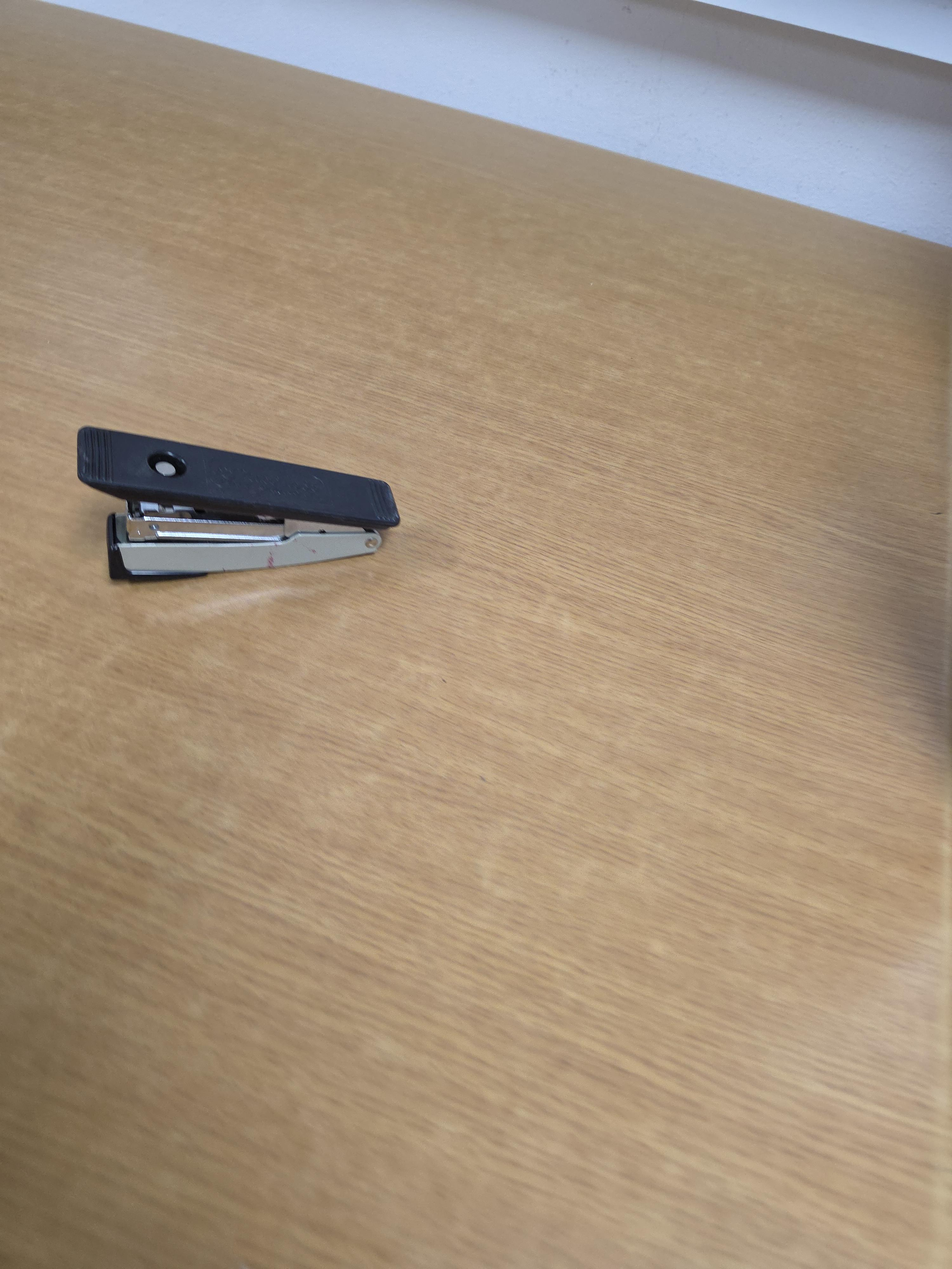stapler: (76, 426, 401, 582)
